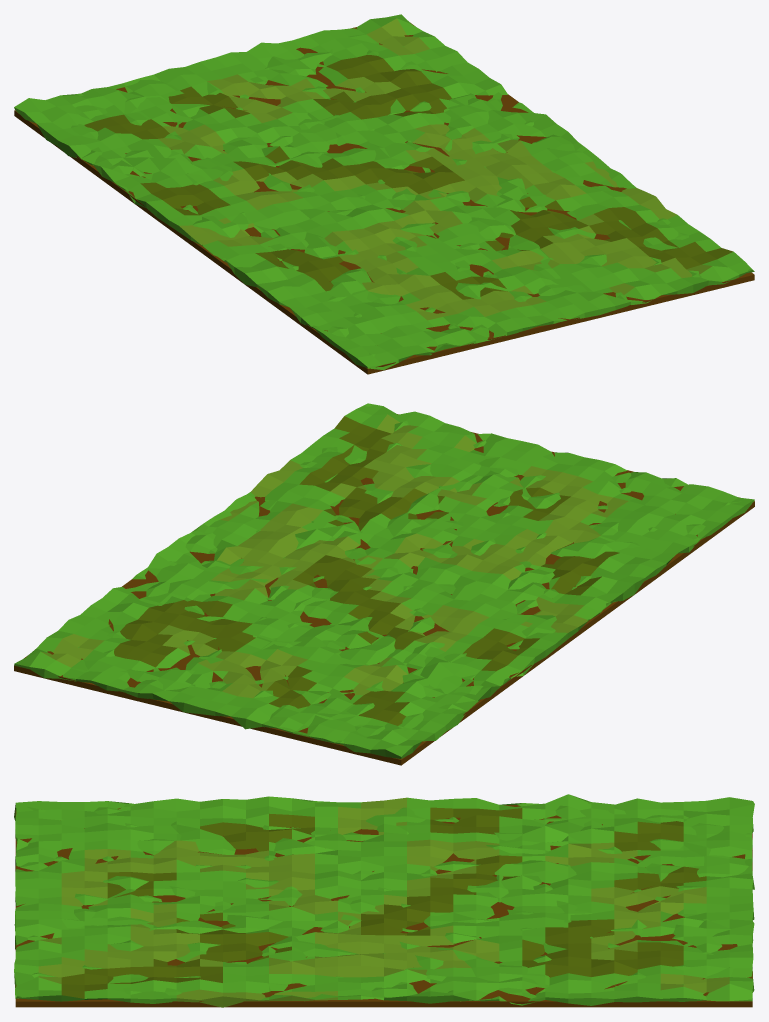
The model's file is LANDMASS.fbx.
3 views of the same model, one above another, from view 1: azimuth 30°, elevation 25°; view 2: azimuth 150°, elevation 25°; view 3: azimuth 270°, elevation 25° (orthographic). The views are drawn at different scales.
Visible parts, largest first — view 1: Cube, Cube_1; view 2: Cube, Cube_1; view 3: Cube, Cube_1.
Boxes of the visible parts, left/top/right/bottom form: Cube: left=14, top=14, right=754, bottom=370; Cube_1: left=14, top=22, right=754, bottom=374; Cube: left=14, top=403, right=754, bottom=758; Cube_1: left=14, top=414, right=754, bottom=765; Cube: left=14, top=794, right=754, bottom=1007; Cube_1: left=15, top=805, right=752, bottom=1007.
Bounding box in the file's own units: 1258 × 50.67 × 1984.
